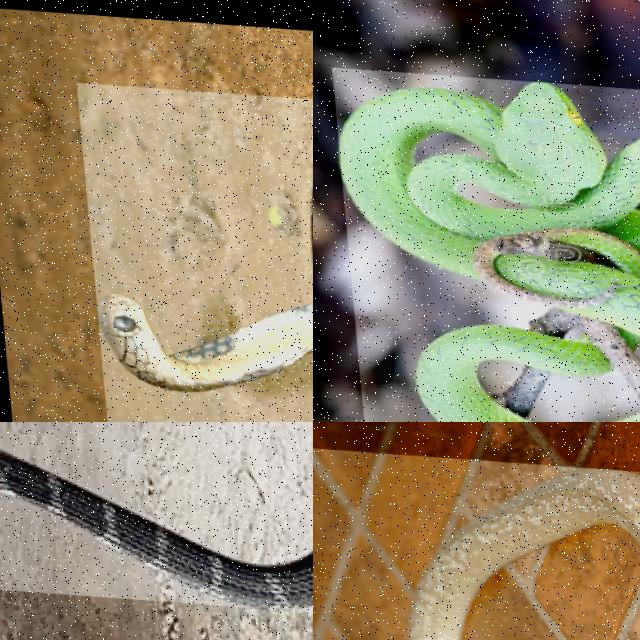Naja kaouthia: (411, 468, 639, 639)
Ophiophagus hannah: (0, 449, 312, 609), (98, 295, 312, 391)
Trimeresurus macrops: (340, 83, 639, 339)
snake: (340, 83, 639, 339), (0, 449, 312, 609), (411, 468, 639, 639), (98, 295, 312, 391)
